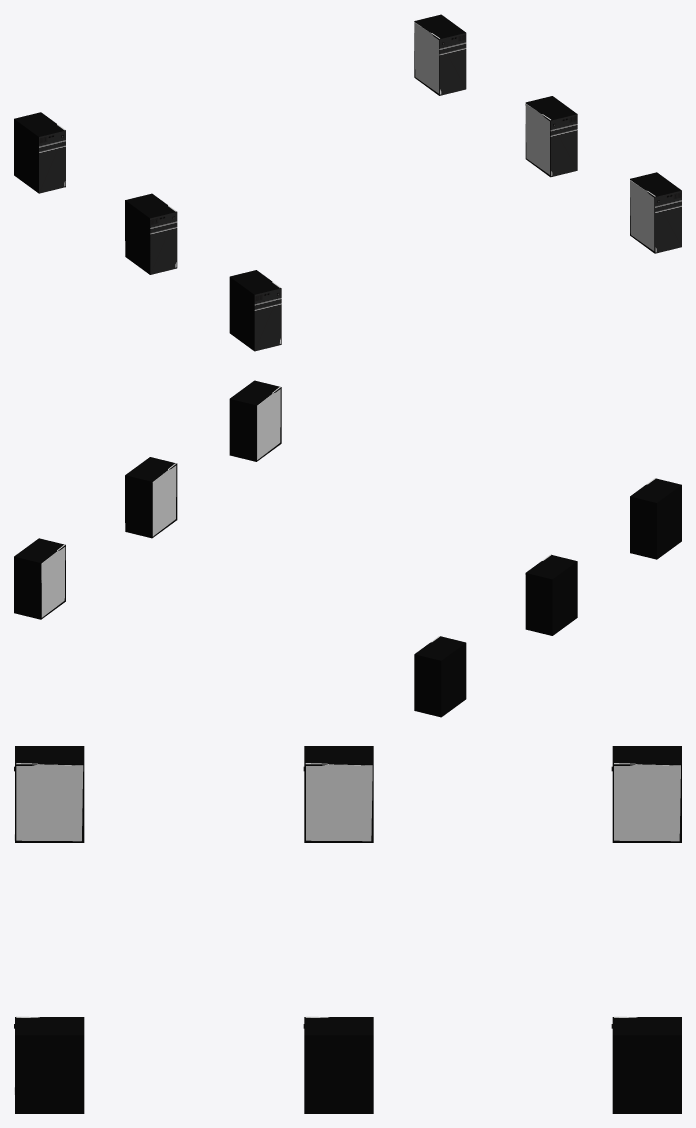
3 renders of one model, top to bottom at view 1: azimuth 30°, elevation 25°; view 2: azimuth 150°, elevation 25°; view 3: azimuth 270°, elevation 25°, orthographic. The views are drawn at different scales.
Parts seen in each view (by area): view 1: case.003, case.001, case.005, case.002, case.004, case, glasspane, glasspane.004, glasspane.002; view 2: case.003, case.005, case.001, case, case.002, case.004, glasspane.002, glasspane.004, glasspane; view 3: case, case.002, case.004, glasspane.001, glasspane.005, glasspane.003, case.001, case.003, case.005.
Part boxes in pixels (box(x1,y1,x2,y2)): case.003: box(125, 193, 177, 274); case.001: box(229, 270, 281, 351); case.005: box(14, 112, 65, 193); case.002: box(525, 96, 577, 177); case.004: box(414, 14, 466, 95); case: box(630, 172, 681, 253); glasspane: box(630, 180, 656, 252); glasspane.004: box(414, 22, 441, 94); glasspane.002: box(525, 103, 552, 175); case.003: box(525, 554, 577, 635); case.005: box(414, 636, 466, 717); case.001: box(630, 478, 681, 559); case: box(229, 380, 281, 461); case.002: box(125, 457, 177, 538); case.004: box(14, 538, 65, 619); glasspane.002: box(152, 463, 176, 536); glasspane.004: box(41, 544, 65, 617); glasspane: box(257, 387, 280, 459); case: box(15, 1017, 84, 1113); case.002: box(304, 1017, 373, 1113); case.004: box(612, 1017, 681, 1113); glasspane.001: box(14, 763, 83, 841); glasspane.005: box(614, 763, 680, 841); glasspane.003: box(305, 763, 372, 841); case.001: box(15, 746, 84, 842); case.003: box(304, 746, 373, 842); case.005: box(612, 746, 681, 842).
Bounding box in the file's own units: 395 × 50.39 × 385.
